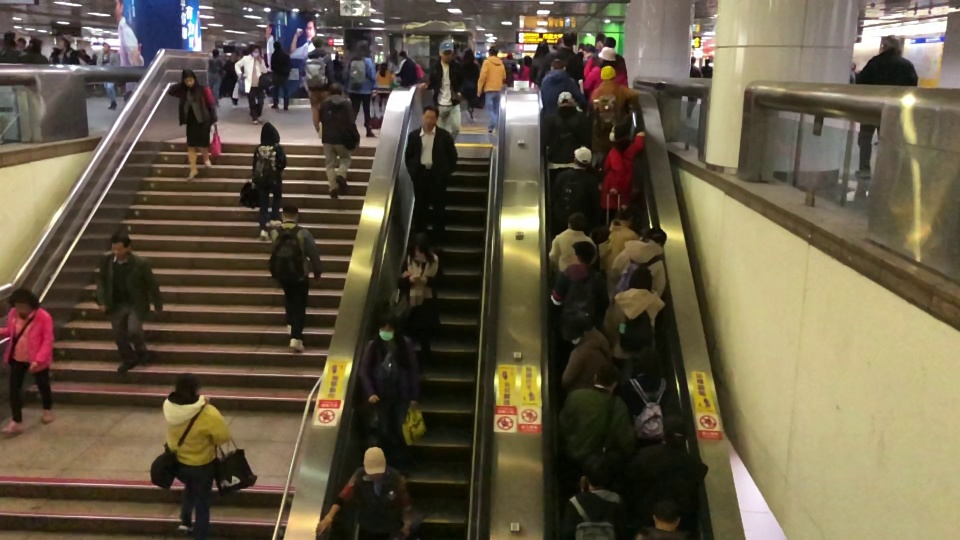person_head: (650, 500, 680, 529), (9, 286, 40, 314), (561, 313, 588, 345), (592, 363, 619, 391), (362, 446, 386, 477), (375, 310, 400, 339), (662, 416, 687, 445), (569, 240, 596, 266), (173, 372, 201, 396), (638, 346, 661, 375), (585, 457, 608, 486), (108, 226, 130, 255), (410, 231, 431, 260), (629, 267, 653, 291), (572, 146, 594, 170), (420, 104, 441, 129), (606, 122, 633, 141), (259, 120, 280, 144), (644, 225, 668, 246), (565, 210, 587, 232), (624, 203, 644, 227), (281, 201, 300, 225), (878, 35, 902, 53), (556, 90, 576, 111), (438, 40, 455, 61), (597, 47, 617, 64), (180, 68, 196, 87), (598, 65, 616, 80), (561, 32, 576, 49), (327, 82, 345, 96), (535, 39, 549, 56), (357, 39, 370, 56), (310, 34, 324, 49), (602, 36, 618, 49), (550, 58, 566, 70), (464, 47, 474, 64), (29, 38, 41, 50), (250, 44, 260, 57), (488, 45, 498, 58), (16, 37, 25, 49), (229, 50, 238, 62), (211, 47, 219, 60), (398, 49, 406, 61), (101, 43, 111, 52), (379, 61, 387, 71), (523, 56, 531, 66), (272, 40, 279, 51), (691, 55, 697, 64), (705, 58, 709, 66)
person_vbox: (152, 370, 232, 540), (94, 226, 162, 375), (854, 34, 919, 178), (315, 443, 411, 540), (357, 309, 421, 447), (0, 286, 55, 436), (269, 201, 322, 351), (558, 362, 630, 472), (405, 104, 459, 243), (634, 415, 710, 507), (397, 231, 443, 378), (603, 266, 667, 366), (168, 68, 219, 184), (561, 457, 625, 540), (623, 345, 678, 439), (318, 81, 361, 197), (418, 40, 465, 140), (600, 122, 646, 218), (548, 240, 605, 316), (609, 225, 666, 299), (592, 65, 638, 155), (253, 120, 288, 237), (543, 91, 592, 173), (551, 146, 600, 226), (561, 314, 611, 387), (343, 39, 377, 140), (599, 204, 645, 275), (548, 210, 598, 275), (303, 34, 336, 130), (477, 43, 506, 135), (235, 43, 268, 122), (583, 47, 628, 99), (540, 58, 582, 113), (584, 35, 627, 78), (96, 42, 121, 111), (270, 39, 291, 111), (553, 33, 584, 80), (464, 49, 480, 123), (222, 49, 240, 111), (376, 61, 394, 113), (394, 49, 418, 86), (688, 55, 702, 117), (208, 48, 223, 104), (530, 40, 550, 82), (26, 39, 47, 64), (700, 57, 713, 79)
